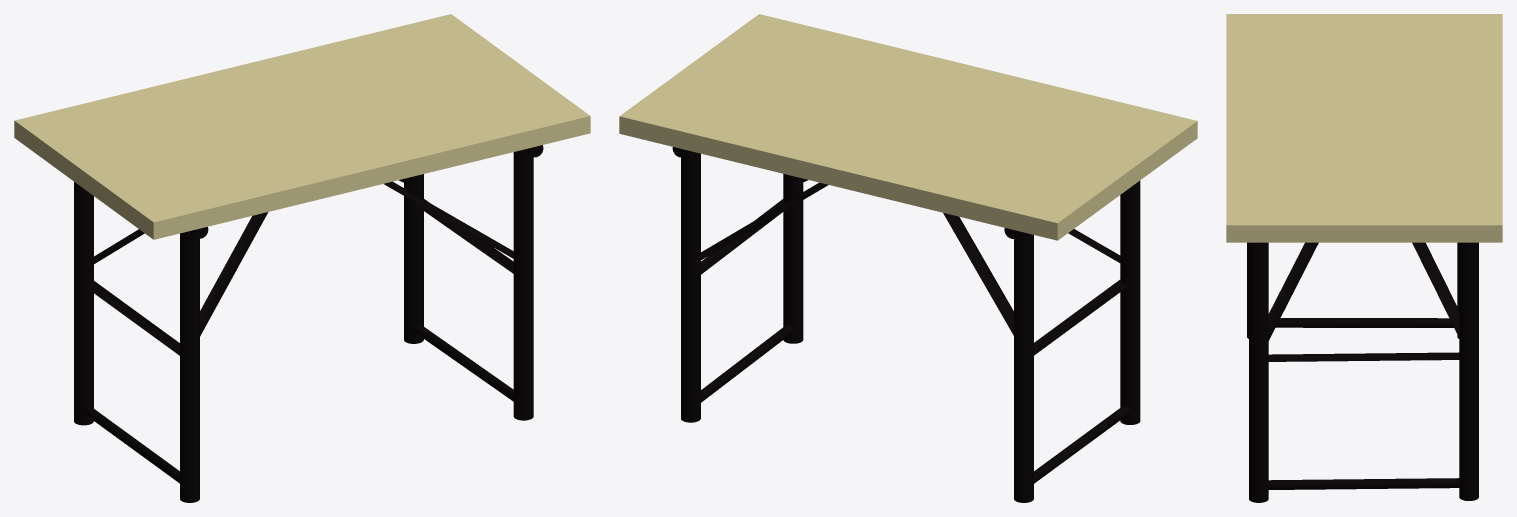
The model's file is DeskModel.fbx.
The picture shows the model from 3 angles, left to right: view 1: azimuth 30°, elevation 25°; view 2: azimuth 150°, elevation 25°; view 3: azimuth 270°, elevation 25°; orthographic projection.
Parts seen in each view (by area): view 1: Cube.001; view 2: Cube.001; view 3: Cube.001.
Boxes of the visible parts, box(x1,y1,x2,y2) form: Cube.001: box(14, 14, 590, 502); Cube.001: box(619, 14, 1197, 502); Cube.001: box(1226, 14, 1502, 502).
Bounding box in the file's own units: 504 × 331 × 278.
